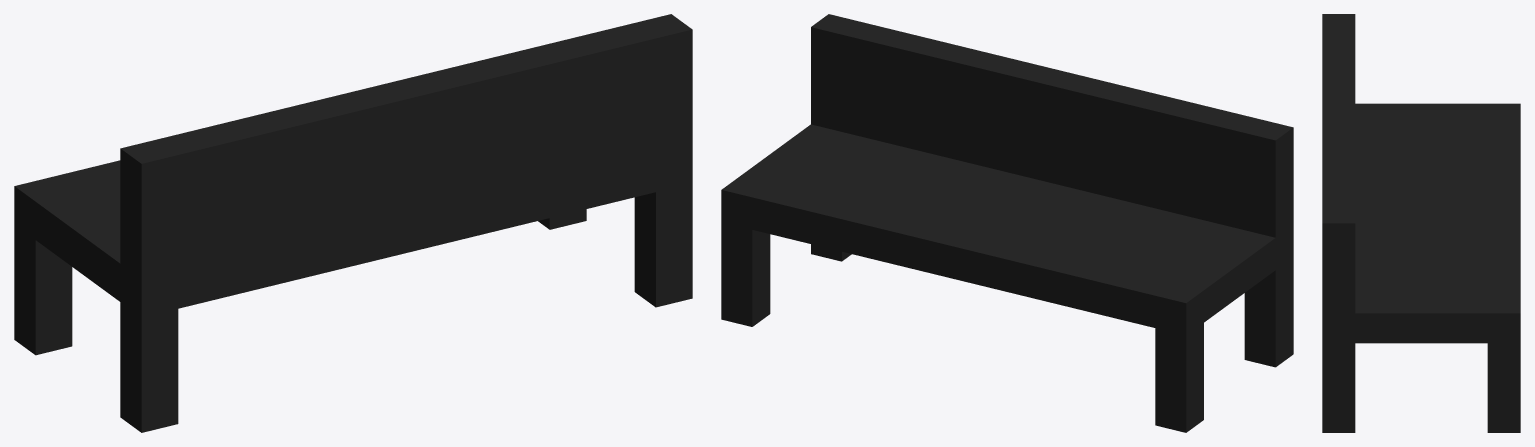
The model's file is obj_bench5.fbx.
3 views of the same model, side by side, from view 1: azimuth 30°, elevation 25°; view 2: azimuth 150°, elevation 25°; view 3: azimuth 270°, elevation 25° (orthographic). The views are drawn at different scales.
Visible parts, largest first — view 1: obj_bench5; view 2: obj_bench5; view 3: obj_bench5.
Boxes of the visible parts, <box> form: obj_bench5: <box>14,14,692,432</box>; obj_bench5: <box>721,14,1293,432</box>; obj_bench5: <box>1322,14,1520,432</box>.
Size of the model in its own units: 1.5 by 0.6 by 0.7.
1 material, 1 textured.
